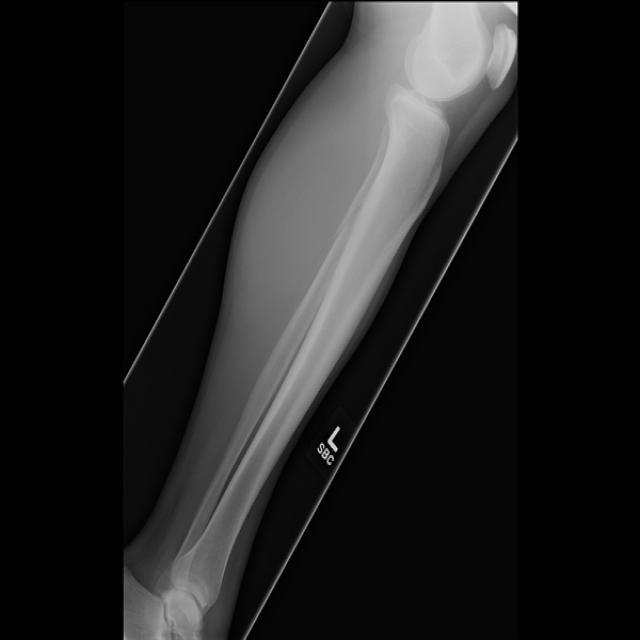Oblique: (434, 11, 532, 146)
